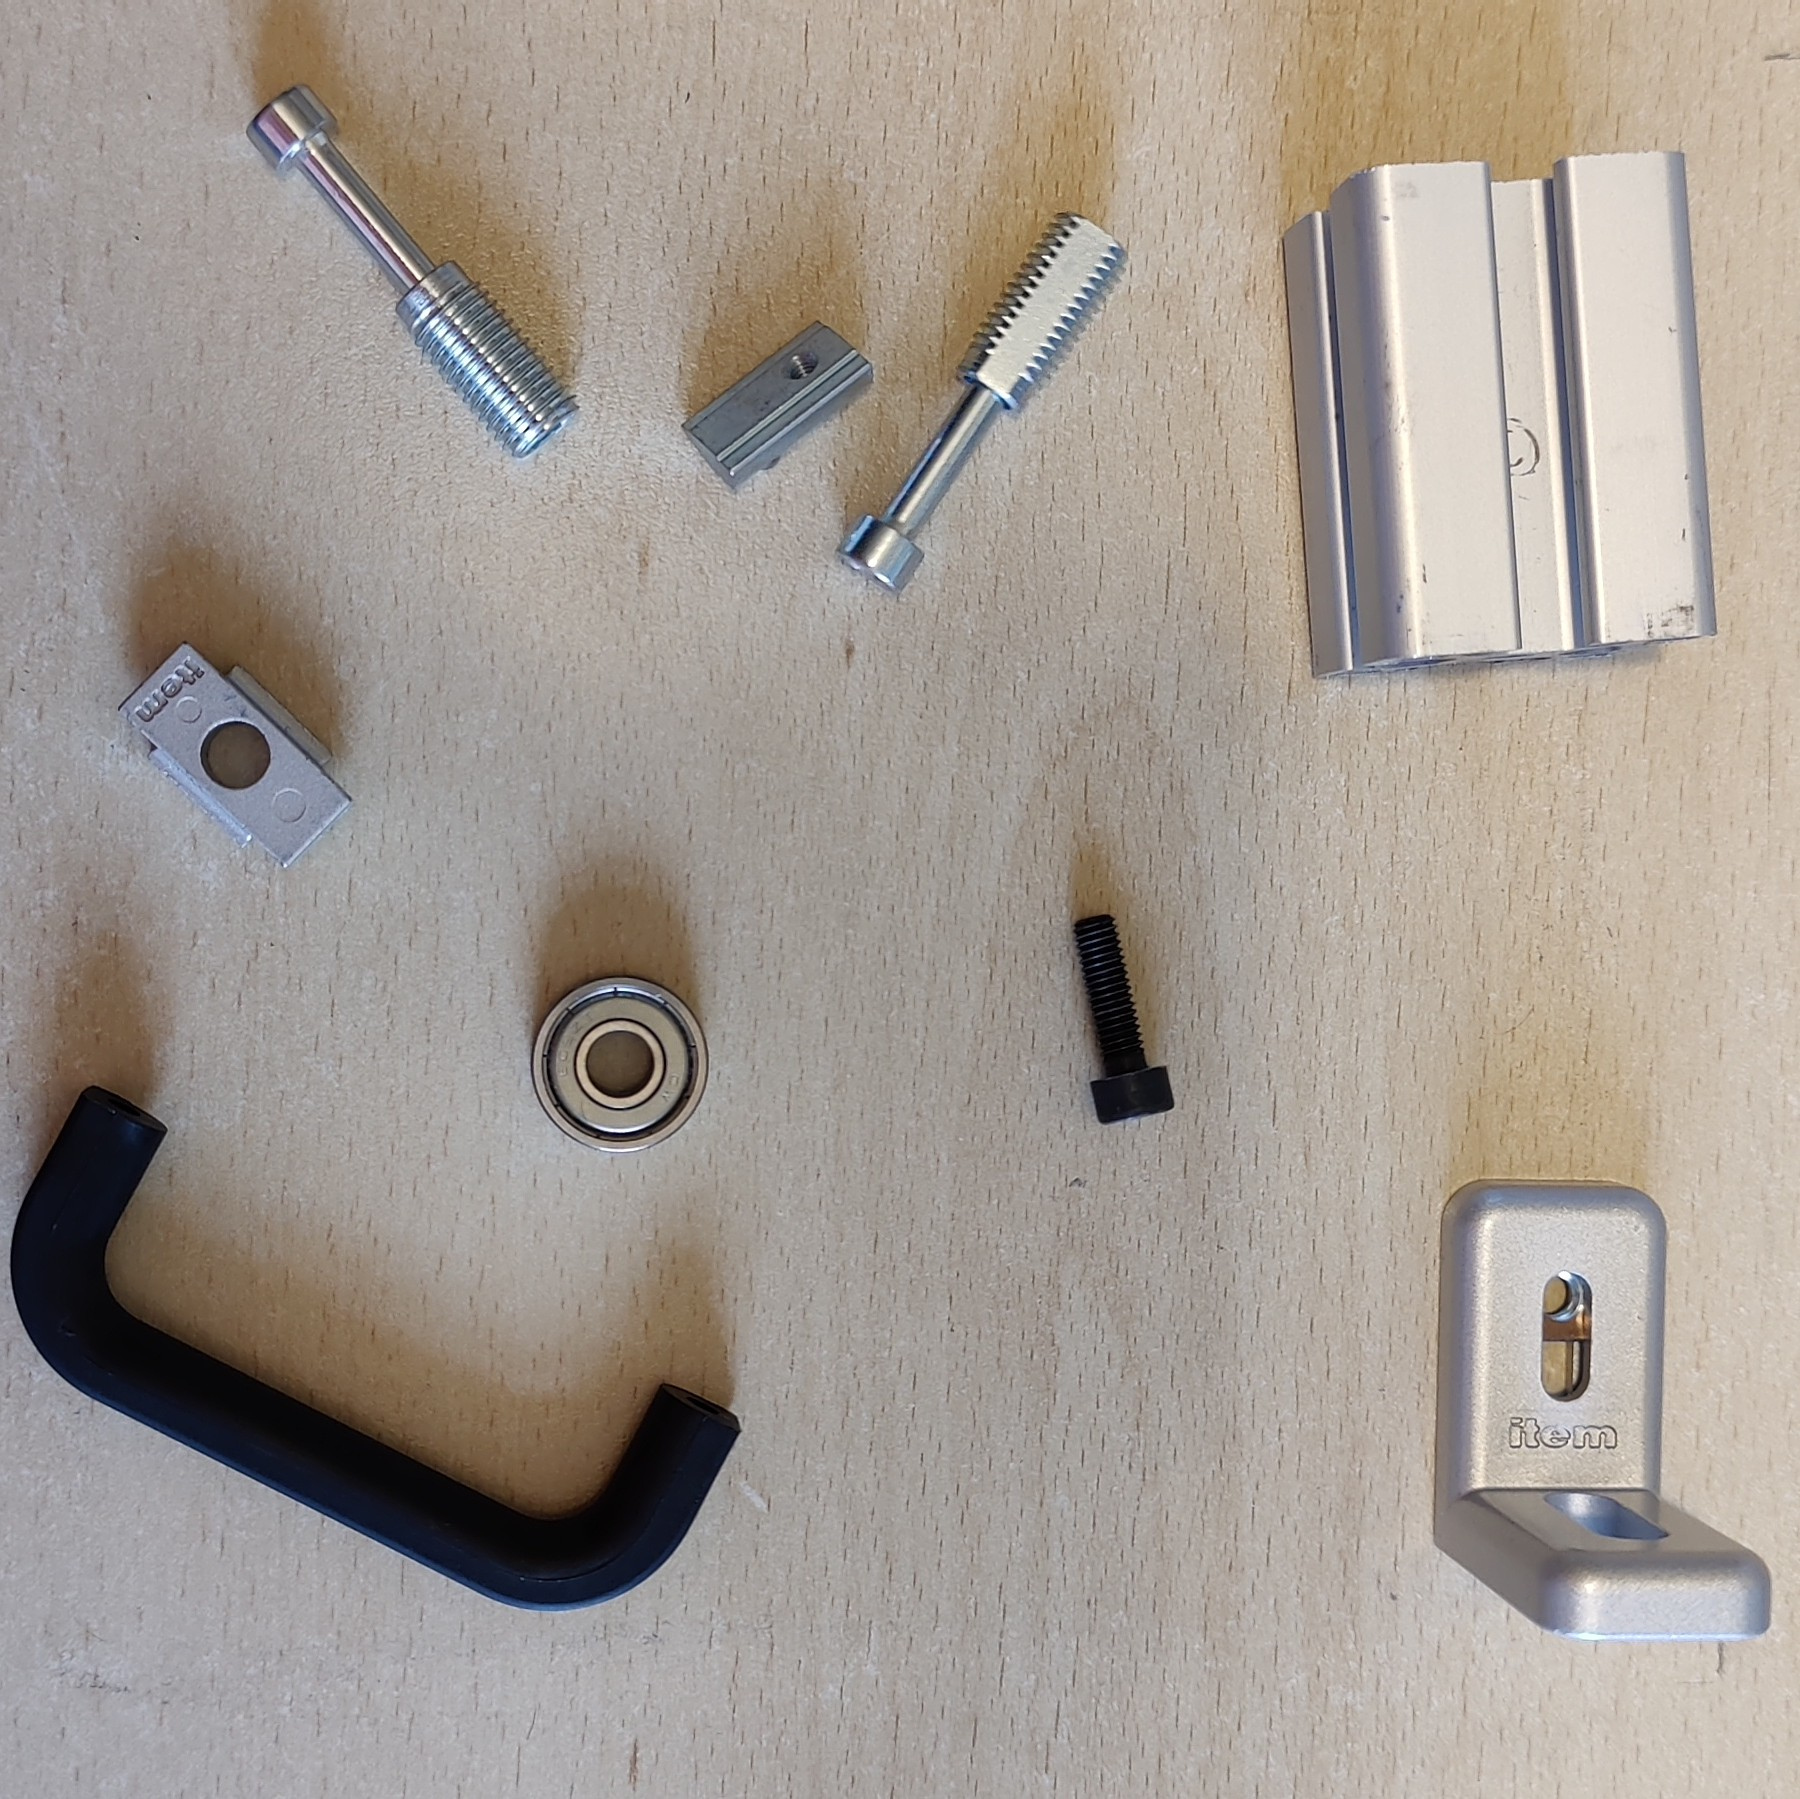Aluminium Extension: (1275, 147, 1719, 679)
Ball Bearing: (529, 969, 711, 1156)
Multiwinkel: (1429, 1173, 1774, 1644)
Pull Handle: (7, 1081, 744, 1613)
Shoulder Socket Head Cap Screw: (244, 81, 583, 461), (832, 208, 1133, 598)
Socket Head Cap Screw: (1069, 908, 1177, 1132)
T Nut Square: (115, 638, 354, 871)
T Spring Nut: (677, 318, 874, 494)
